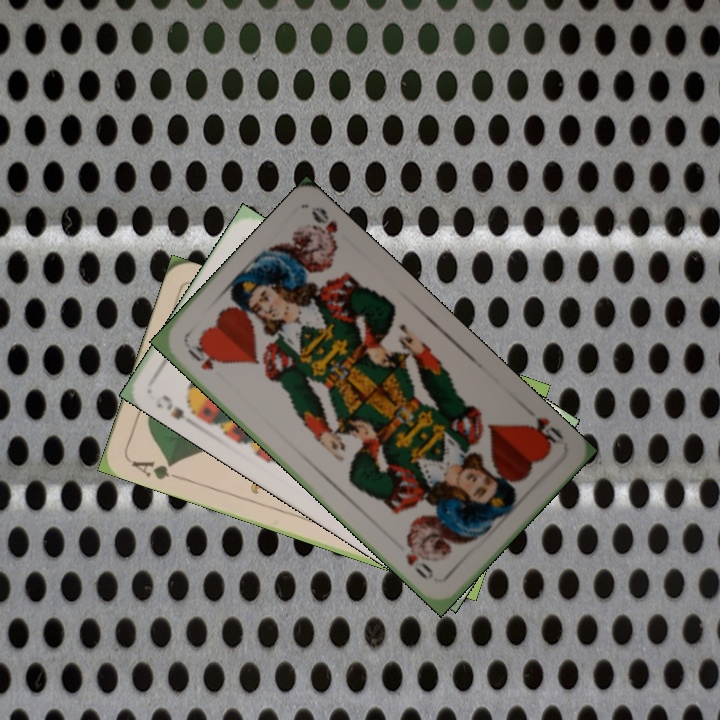GA: (127, 456, 184, 483)
HO: (518, 413, 568, 452), (183, 341, 222, 373)
S9: (157, 390, 204, 431)
